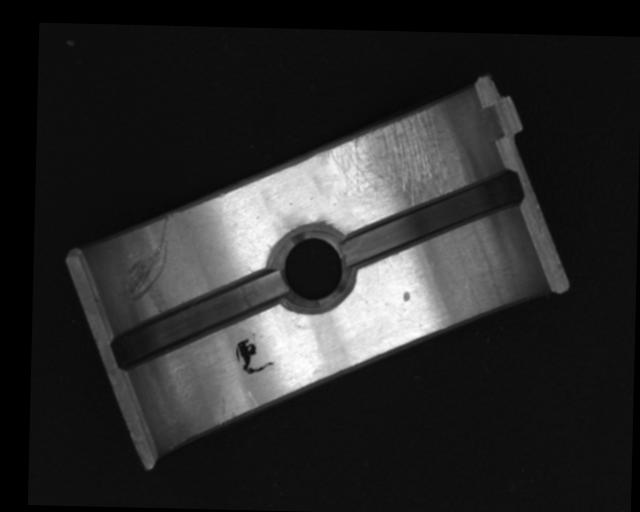blot: (234, 337, 276, 376)
bruise: (402, 290, 411, 302)
gap: (344, 165, 524, 271), (108, 267, 285, 374)
hole: (273, 230, 352, 310)
nick: (122, 213, 171, 305)
scratch: (322, 104, 470, 207)
